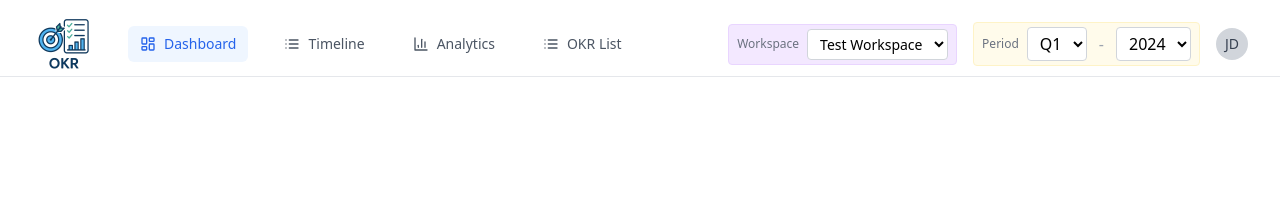
Scenario: Header › opens profile menu when clicked
Click the button with aria-label "Profile menu": (1232, 44) x1=1216 y1=28 x2=1248 y2=60
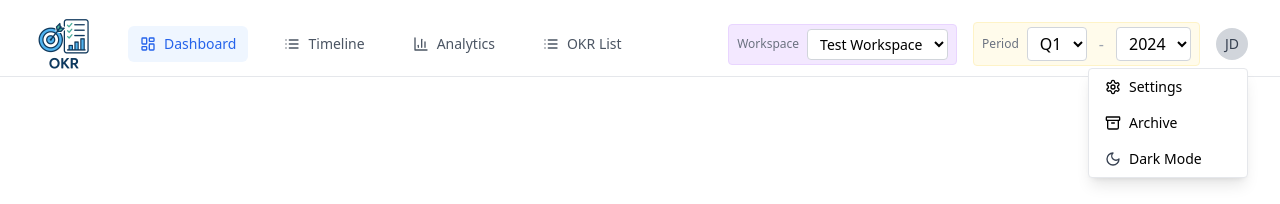
expect the button "Settings" is shown: met, box x1=1089 y1=69 x2=1247 y2=105
expect the button "Archive" is shown: met, box x1=1089 y1=105 x2=1247 y2=141
expect the text "Dark Mode" is shown: met, box x1=1129 y1=149 x2=1202 y2=169
